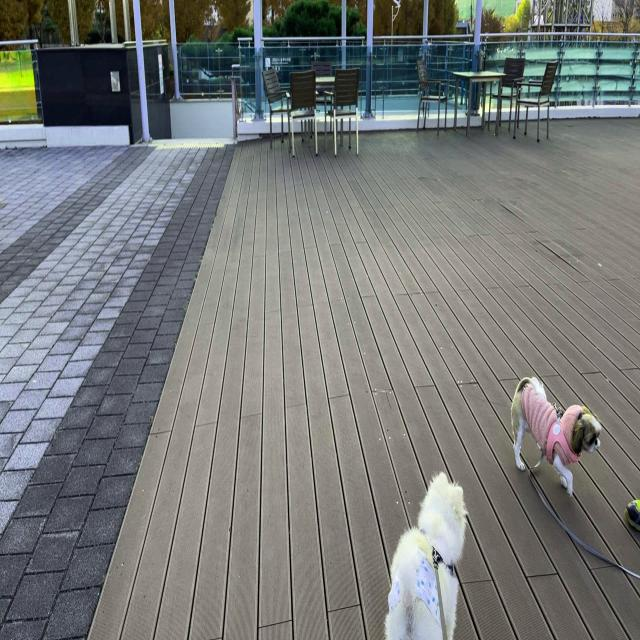Dog: (384, 471, 468, 640), (510, 375, 602, 499)
